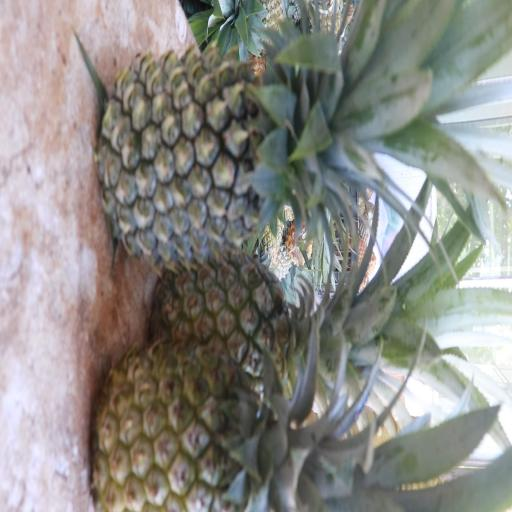------------------------------: (88, 343, 432, 512), (146, 242, 384, 412)
